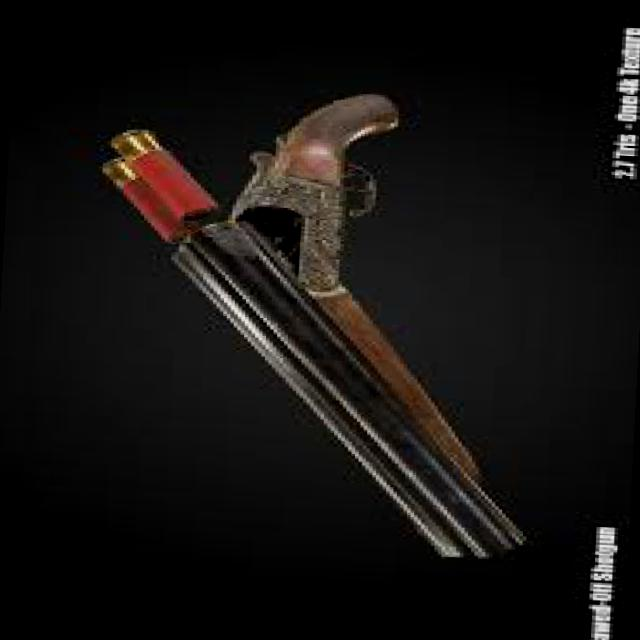long weapon: (58, 66, 577, 590)
